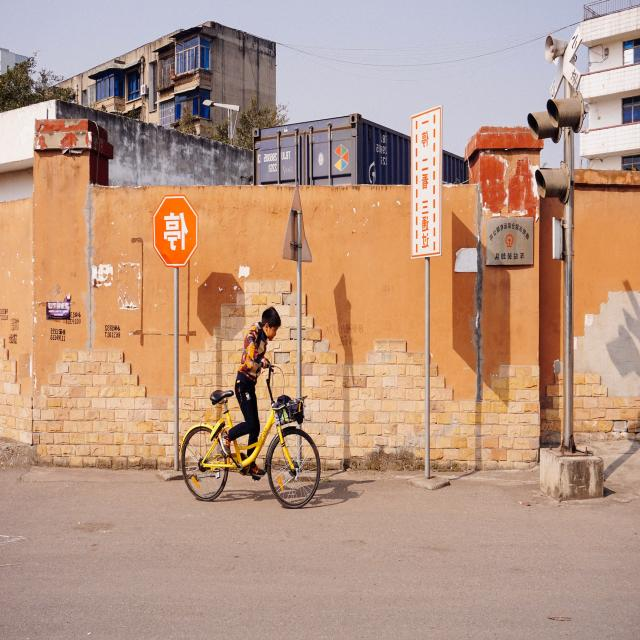adult: (218, 304, 284, 479)
